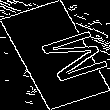M_SW: (14, 24, 96, 86)
